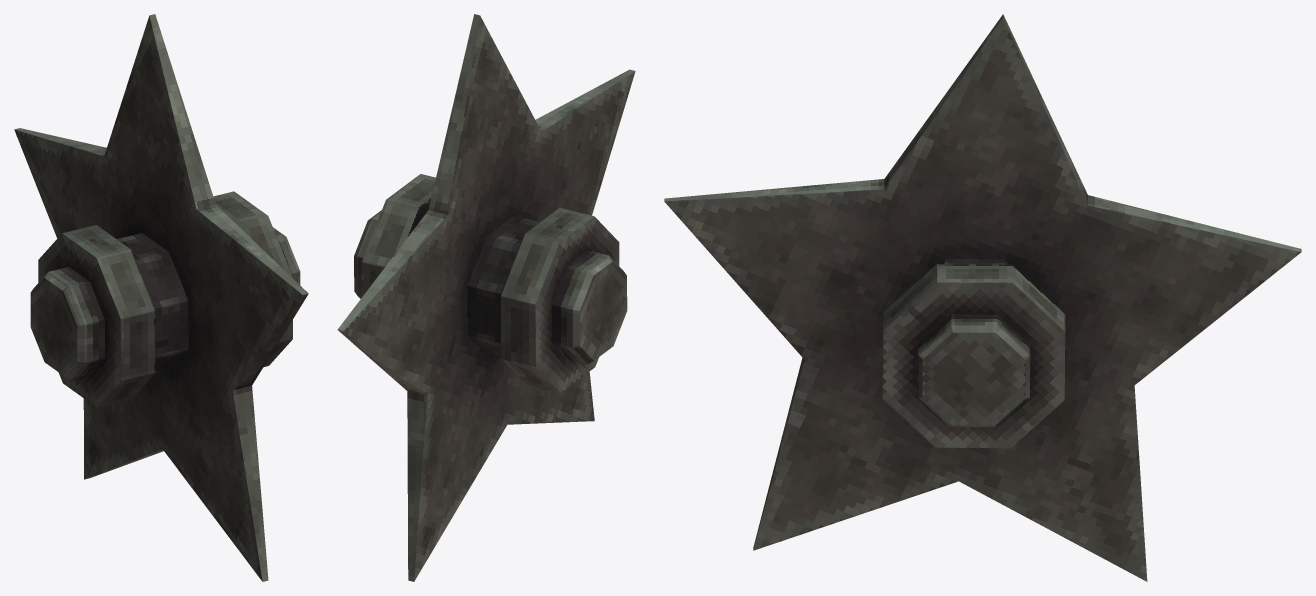
File: spinningblade-variant-2.glb
The picture shows the model from 3 angles, left to right: view 1: azimuth 30°, elevation 25°; view 2: azimuth 150°, elevation 25°; view 3: azimuth 270°, elevation 25°; orthographic projection. The views are drawn at different scales.
Parts seen in each view (by area): view 1: Spinningblade_Variant_2; view 2: Spinningblade_Variant_2; view 3: Spinningblade_Variant_2.
Boxes of the visible parts, x1,y1,x2,y2 form: Spinningblade_Variant_2: [14, 14, 308, 581]; Spinningblade_Variant_2: [337, 14, 635, 581]; Spinningblade_Variant_2: [664, 14, 1301, 581].
Size of the model in its own units: 0.8453 by 1.85 by 1.89.
1 material, 1 textured.
